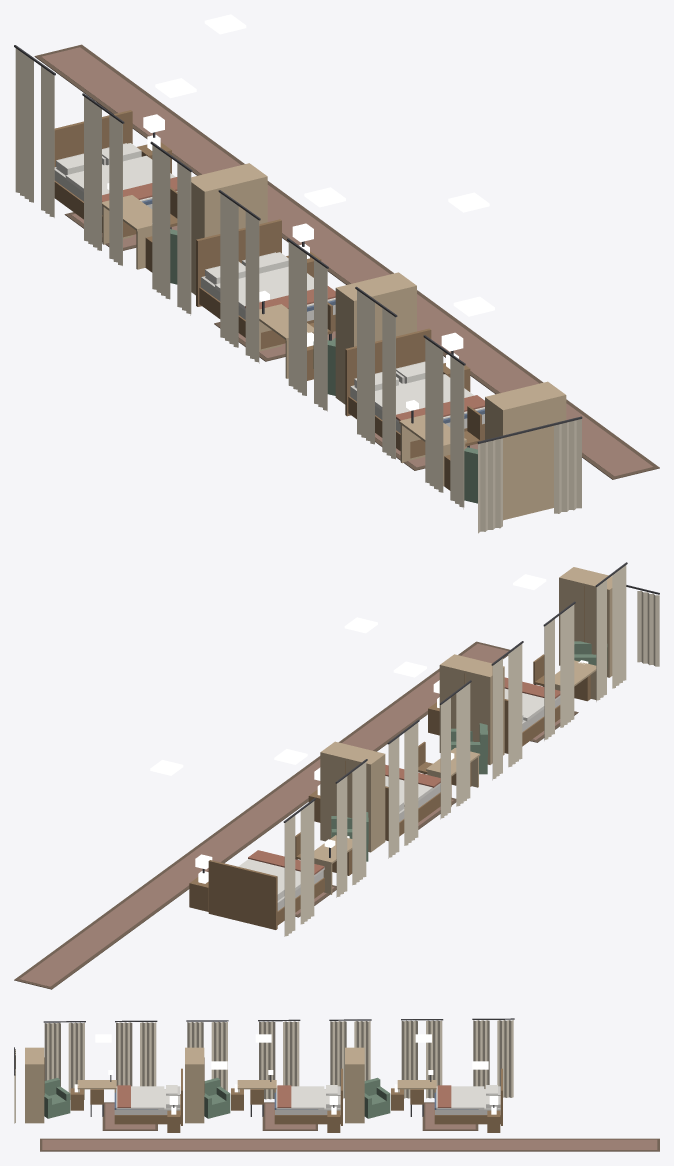
Rendered from fine-s3.glb.
3 views of the same model, one above another, from view 1: azimuth 30°, elevation 25°; view 2: azimuth 150°, elevation 25°; view 3: azimuth 270°, elevation 25° (orthographic). The views are drawn at different scales.
Visible parts, largest first — view 1: soft-s3, dresser.008, dresser.007, dresser.006, bed-frame.007, bed-frame.008, bed-frame.006, writing-desk.006, writing-desk.008, writing-desk.007, lounge-chair.008; view 2: soft-s3, bed-frame.006, dresser.006, dresser.007, dresser.008, bed-frame.008, bed-frame.007, writing-desk.006, lounge-chair.007, nightstand.006, writing-desk.007, writing-desk.008; view 3: soft-s3, dresser.006, dresser.007, dresser.008, bed-frame.008, bed-frame.007, bed-frame.006, lounge-chair.007, lounge-chair.006, lounge-chair.008, writing-desk.006, writing-desk.007 (+10 smaller).
Boxes of the visible parts, box(x1,y1,x2,y2) form: soft-s3: box(14, 44, 659, 533); dresser.008: box(485, 381, 566, 520); dresser.007: box(335, 272, 416, 404); dresser.006: box(191, 163, 267, 295); bed-frame.007: box(196, 219, 335, 349); bed-frame.008: box(345, 328, 484, 458); bed-frame.006: box(54, 110, 152, 237); writing-desk.006: box(102, 183, 152, 269); writing-desk.008: box(399, 400, 466, 486); writing-desk.007: box(259, 290, 313, 378); lounge-chair.008: box(464, 447, 477, 503); soft-s3: box(14, 562, 659, 989); bed-frame.006: box(208, 860, 324, 929); dresser.006: box(320, 741, 385, 852); dresser.007: box(439, 654, 504, 764); dresser.008: box(559, 567, 612, 677); bed-frame.008: box(504, 697, 560, 753); bed-frame.007: box(385, 785, 440, 840); writing-desk.006: box(314, 835, 352, 894); lounge-chair.007: box(451, 723, 487, 774); nightstand.006: box(189, 871, 208, 911); writing-desk.007: box(426, 747, 480, 806); writing-desk.008: box(555, 660, 596, 699); soft-s3: box(14, 1018, 659, 1151); dresser.006: box(345, 1047, 364, 1123); dresser.007: box(185, 1047, 204, 1123); dresser.008: box(25, 1047, 44, 1123); bed-frame.008: box(114, 1068, 182, 1125); bed-frame.007: box(274, 1068, 342, 1125); bed-frame.006: box(434, 1068, 502, 1125); lounge-chair.007: box(204, 1077, 230, 1118); lounge-chair.006: box(364, 1077, 390, 1118); lounge-chair.008: box(44, 1078, 70, 1118); writing-desk.006: box(397, 1070, 436, 1093); writing-desk.007: box(237, 1070, 276, 1093).
Size of the model in its own units: 3.91 by 2.74 by 19.84.
